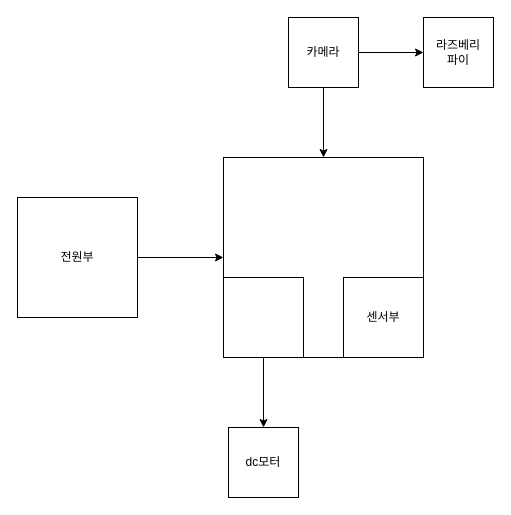
This 511x515 diagram has some shape labels left out. Each missing label, with the box of its shape:
입력부: (222, 156, 424, 358)
제어부: (222, 276, 304, 358)
